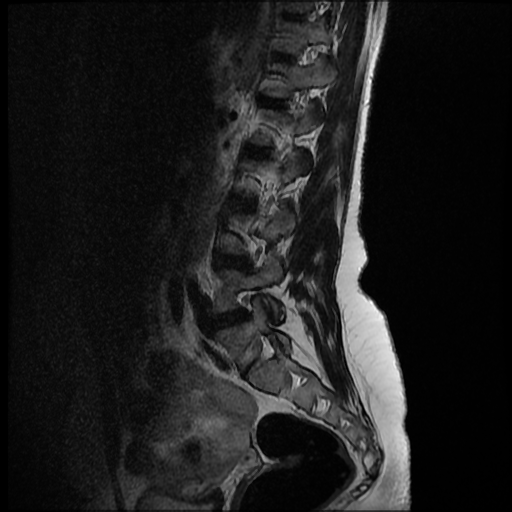LFS0: (227, 281, 265, 324)
